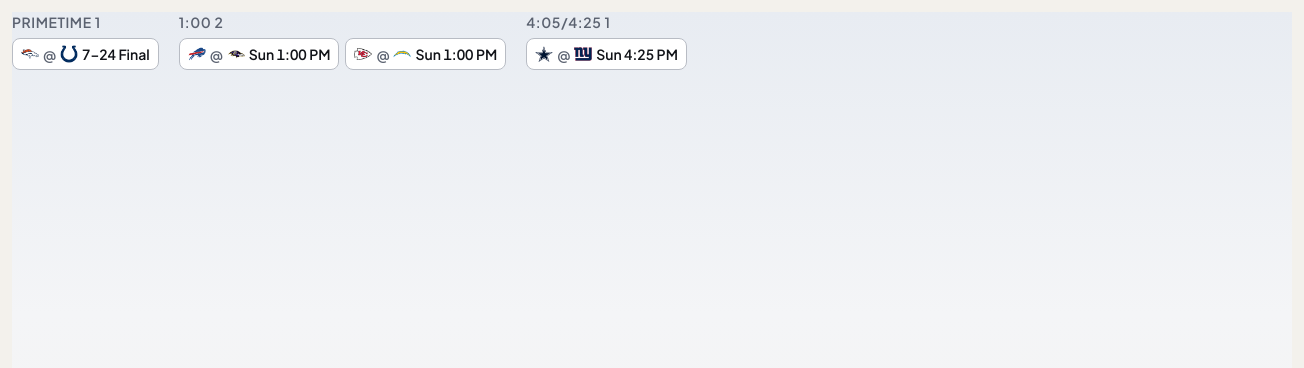
Scenario: GameStrip › toggles a chip, window-selects, and Clear games
The image size is (1304, 368).
Step 1. Click the button with aria-label "KC at LAC" → coordinates (426, 54), box top-left (346, 38), bottom-right (506, 70)
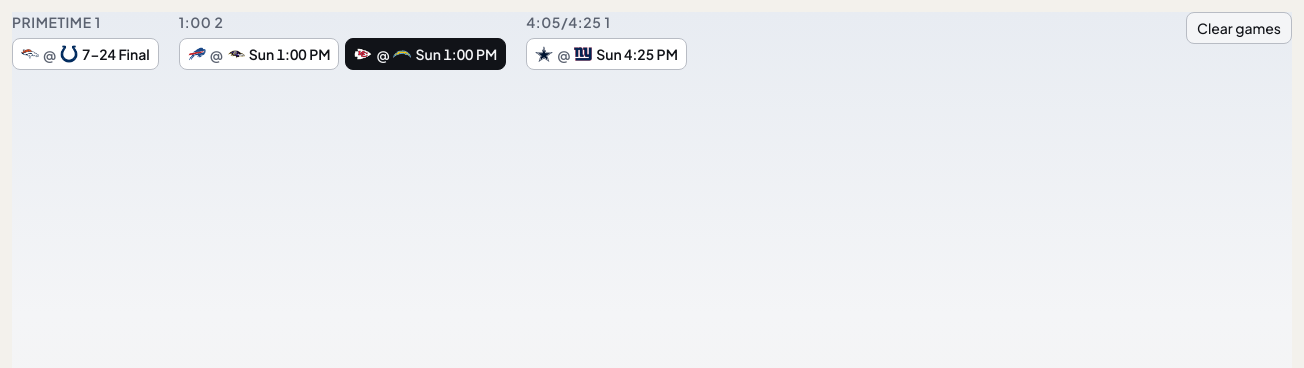
expect the button with aria-label "KC at LAC" is pressed: met, box top-left (346, 38), bottom-right (506, 70)
expect the button with aria-label "KC at LAC" has class "bg-foreground": met, box top-left (346, 38), bottom-right (506, 70)
Step 2. Click the button "1:00 2" → coordinates (201, 22), box top-left (179, 12), bottom-right (223, 32)
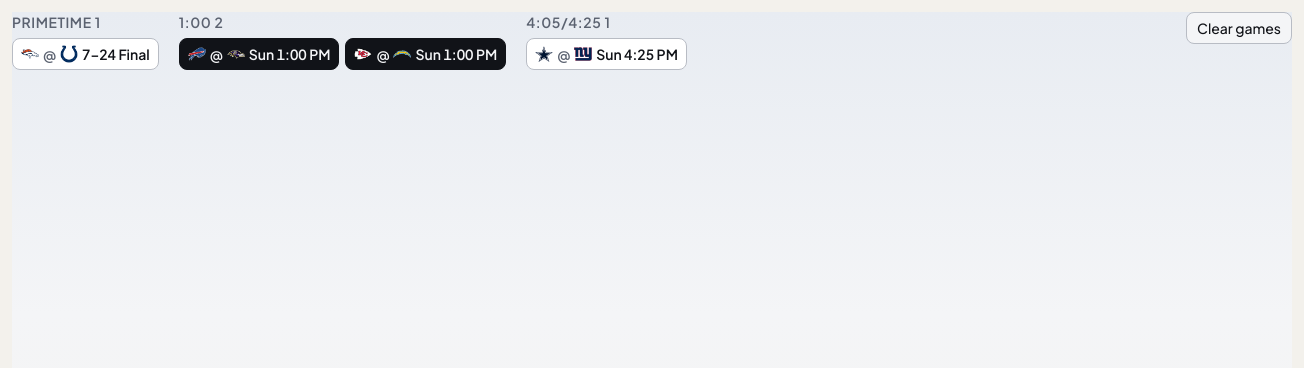
expect the button with aria-label "BUF at BAL" is pressed: met, box top-left (179, 38), bottom-right (340, 70)
Step 3. Click the button "Clear games" → coordinates (1239, 28), box top-left (1186, 12), bottom-right (1292, 44)
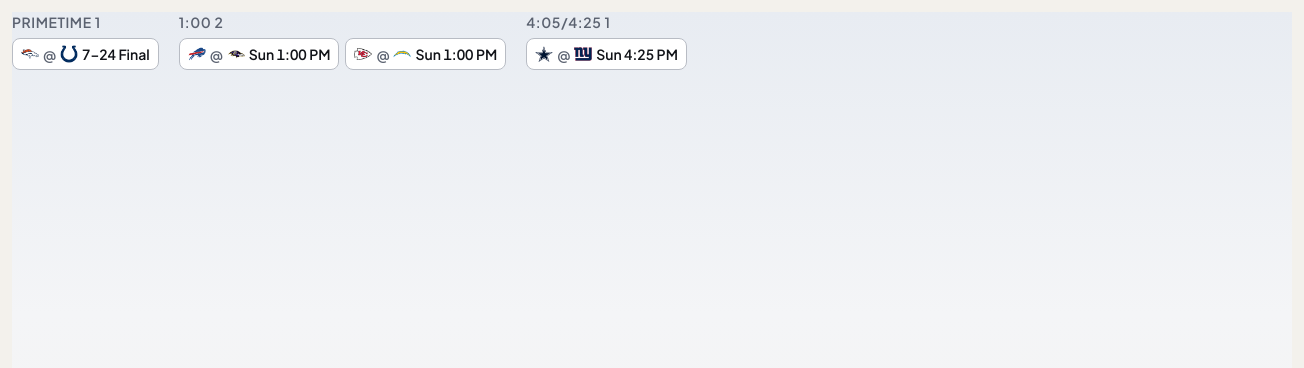
expect the button "Clear games" is gone: met
